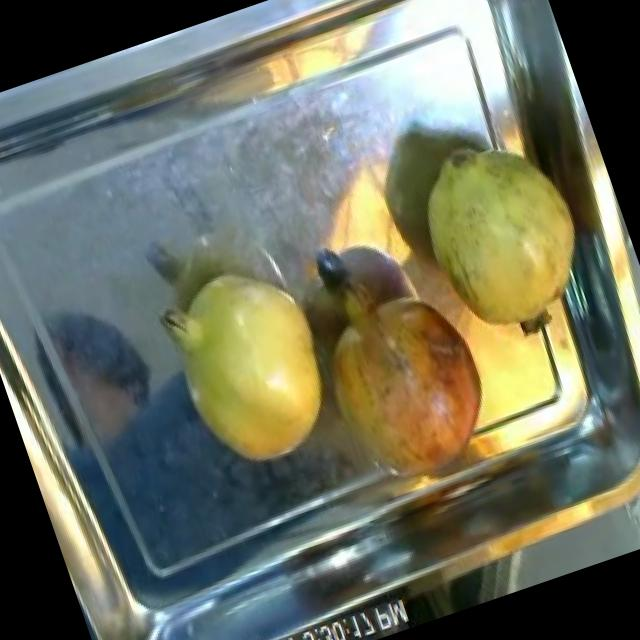fruit: (283, 247, 522, 516), (388, 105, 614, 373), (136, 235, 364, 500)
